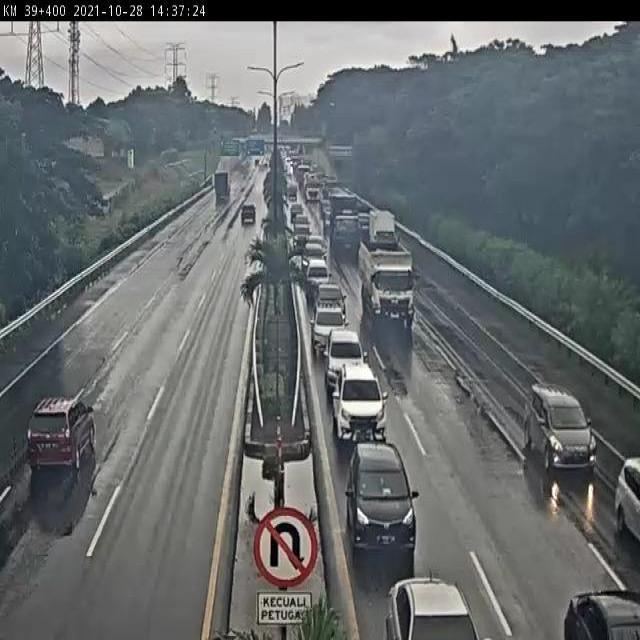car: (381, 571, 481, 640), (352, 444, 414, 543), (25, 396, 100, 477), (530, 384, 594, 474), (557, 575, 640, 640), (333, 370, 389, 442), (322, 330, 364, 394), (314, 304, 344, 350), (308, 286, 348, 316), (302, 258, 336, 292), (302, 232, 324, 261), (241, 200, 257, 227), (295, 214, 312, 238)
truck: (360, 243, 417, 329), (324, 194, 362, 253), (369, 208, 400, 252), (304, 174, 324, 206), (212, 170, 233, 200)
